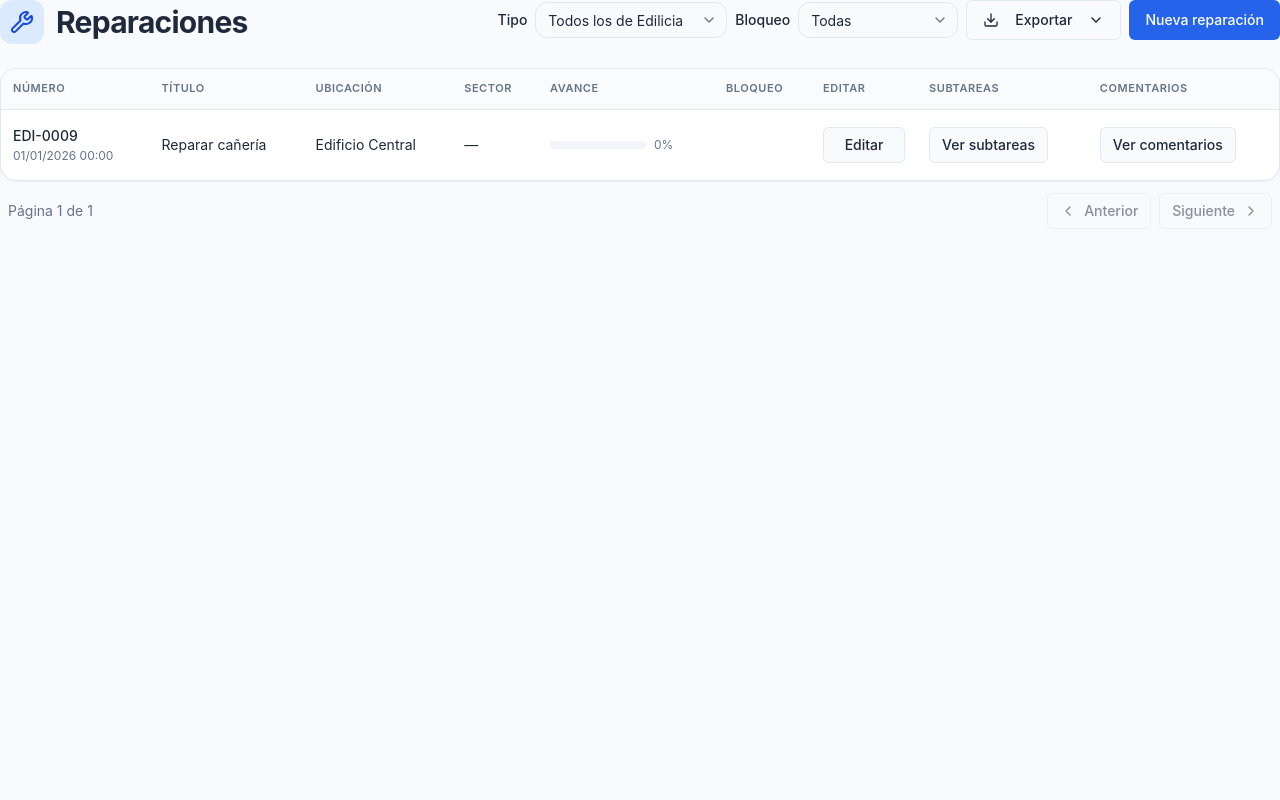
Test: ReparacionesList — indicador de comentarios por fila › el boton abre el modal (sin badge)
Expected: the text "EDI-0009" is shown, top-left (13, 126), bottom-right (78, 144)
Click the button "Ver comentarios".
click(1168, 144)  # box top-left (1100, 126), bottom-right (1236, 162)
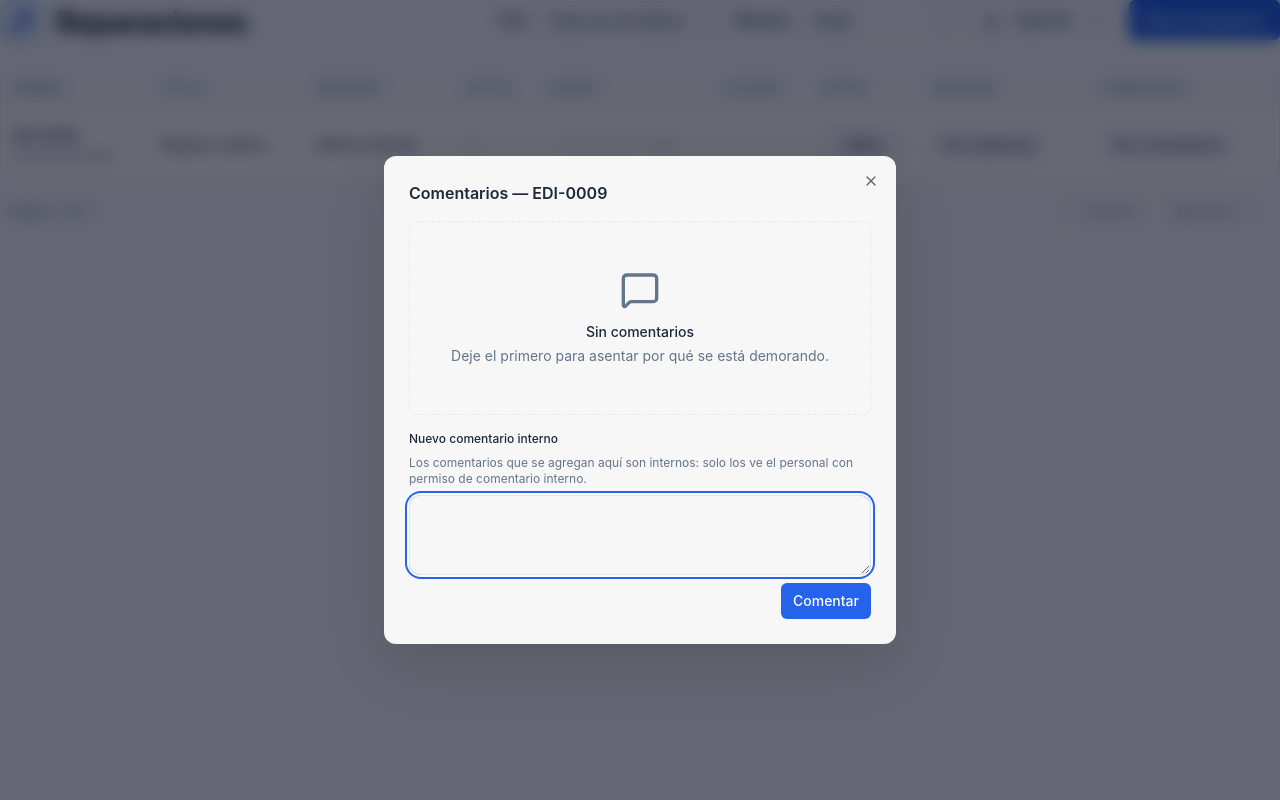
Now the heading "Comentarios — EDI-0009" is shown, box top-left (409, 183), bottom-right (607, 203)
